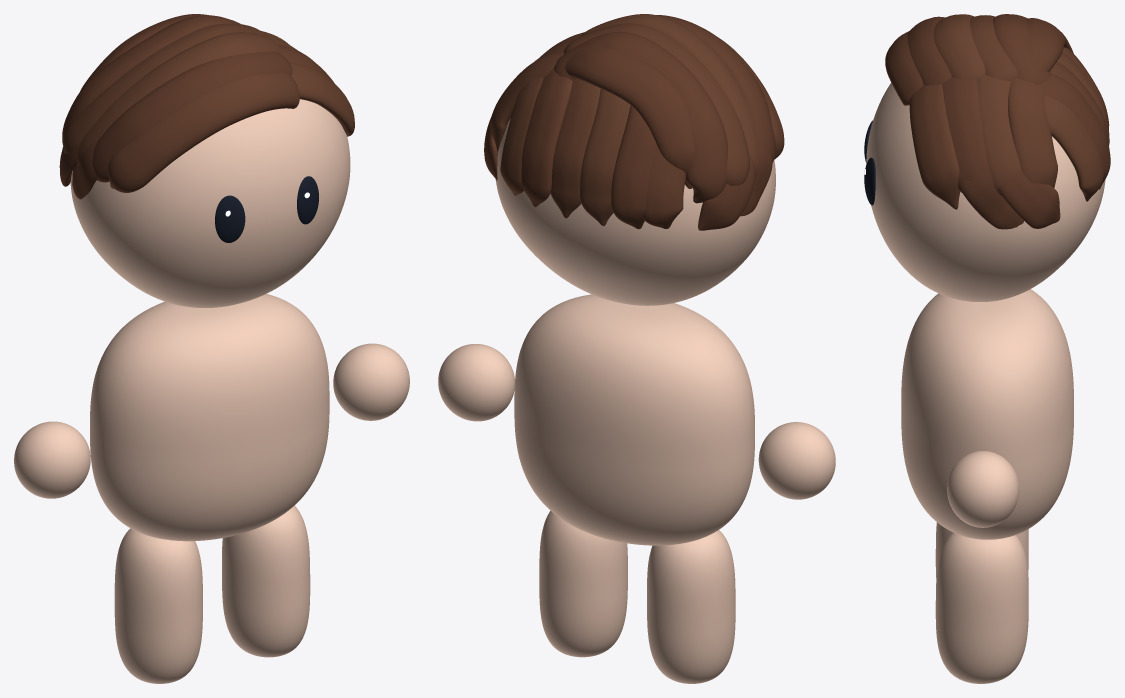
File: Masculine-skin0.glb
3 renders of one model, left to right at view 1: azimuth 30°, elevation 25°; view 2: azimuth 150°, elevation 25°; view 3: azimuth 270°, elevation 25°, orthographic.
Parts seen in each view (by area): view 1: Skin / compact torso, Skin / soft oval head, Skin / leg -1, Skin / leg 1, Hair / Side part main 0, Hair / Side part main 1, Skin / hand -1, Skin / hand 1, Hair / Side part main 2, Hair / Side part main 3, Hair / Side part main 4, Hair / Side part short 0 (+4 smaller); view 2: Skin / compact torso, Skin / soft oval head, Skin / leg -1, Skin / leg 1, Hair / Side part crown, Hair / Side part main 4, Skin / hand -1, Skin / hand 1, Hair / Side part nape 2, Hair / Side part nape 4, Hair / Side part main 3, Hair / Side part nape 3 (+9 smaller); view 3: Skin / compact torso, Skin / soft oval head, Skin / leg 1, Skin / hand 1, Hair / Side part short 0, Hair / Side part short 3, Hair / Side part short 1, Hair / Side part short 2, Hair / Side part nape 5, Hair / Side part main 2, Hair / Side part low 1 1, Hair / Side part main 4 (+10 smaller).
Boxes of the visible parts, box(x1,y1,x2,y2) form: Skin / compact torso: box(90, 294, 329, 541); Skin / soft oval head: box(70, 99, 350, 307); Skin / leg -1: box(114, 528, 202, 683); Skin / leg 1: box(222, 505, 310, 657); Hair / Side part main 0: box(108, 73, 299, 192); Hair / Side part main 1: box(92, 51, 292, 182); Skin / hand -1: box(14, 421, 90, 498); Skin / hand 1: box(333, 343, 409, 420); Hair / Side part main 2: box(77, 32, 281, 165); Hair / Side part main 3: box(63, 23, 266, 153); Hair / Side part main 4: box(62, 15, 240, 145); Hair / Side part short 0: box(290, 63, 354, 136); Skin / compact torso: box(514, 294, 754, 545); Skin / soft oval head: box(495, 118, 775, 305); Skin / leg -1: box(647, 530, 735, 683); Skin / leg 1: box(539, 511, 627, 657); Hair / Side part crown: box(565, 47, 694, 188); Hair / Side part main 4: box(554, 32, 727, 203); Skin / hand -1: box(758, 422, 835, 499); Skin / hand 1: box(438, 344, 514, 421); Hair / Side part nape 2: box(580, 88, 630, 226); Hair / Side part nape 4: box(521, 68, 572, 207); Hair / Side part main 3: box(563, 23, 749, 185); Hair / Side part nape 3: box(550, 79, 600, 218); Skin / compact torso: box(901, 289, 1073, 539); Skin / soft oval head: box(866, 83, 1105, 301); Skin / leg 1: box(935, 532, 1028, 683); Skin / hand 1: box(947, 451, 1019, 527); Hair / Side part short 0: box(909, 84, 960, 209); Hair / Side part short 3: box(1008, 77, 1057, 187); Hair / Side part short 1: box(942, 77, 986, 192); Hair / Side part short 2: box(977, 74, 1021, 195); Hair / Side part nape 5: box(1044, 95, 1103, 201); Hair / Side part main 2: box(933, 14, 985, 80); Hair / Side part low 1 1: box(999, 170, 1060, 228); Hair / Side part main 4: box(993, 14, 1050, 84).
Size of the model in its own units: 1.49 by 2.34 by 0.8319.
